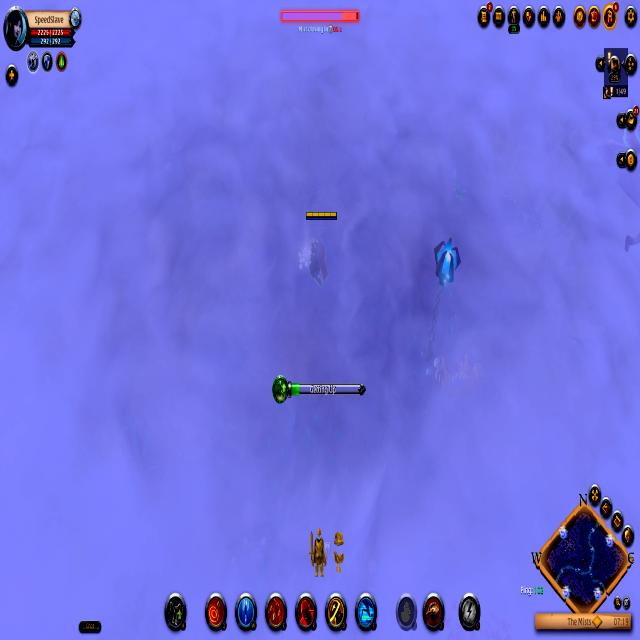10: (415, 226, 464, 374)
red: (303, 206, 341, 299)
